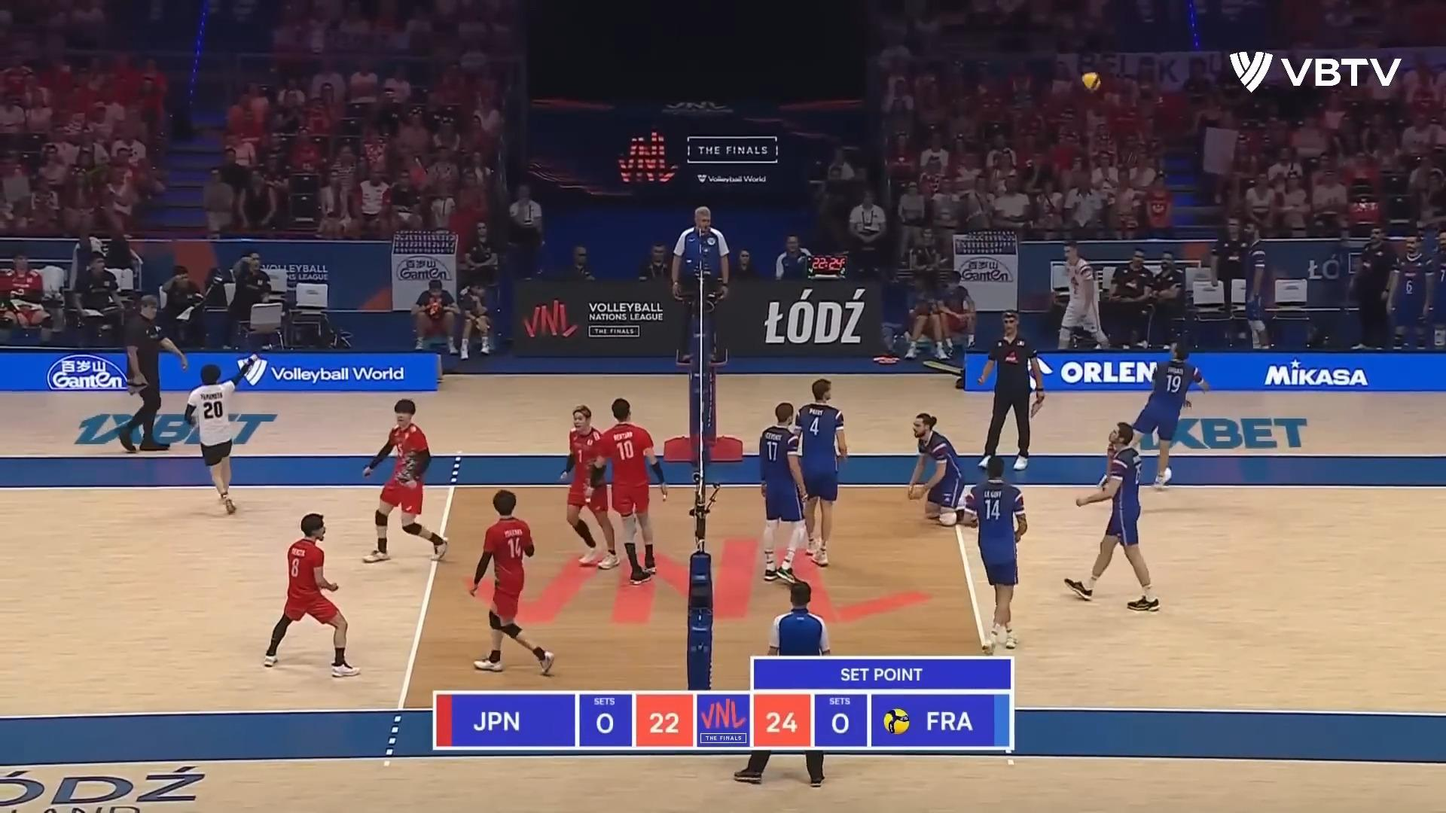ball: (1080, 70, 1104, 93)
